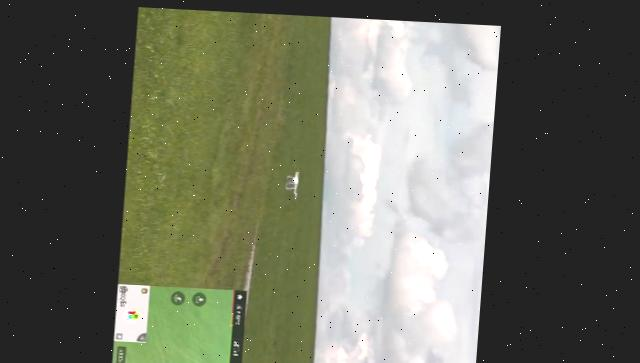drone: (287, 162, 306, 194)
